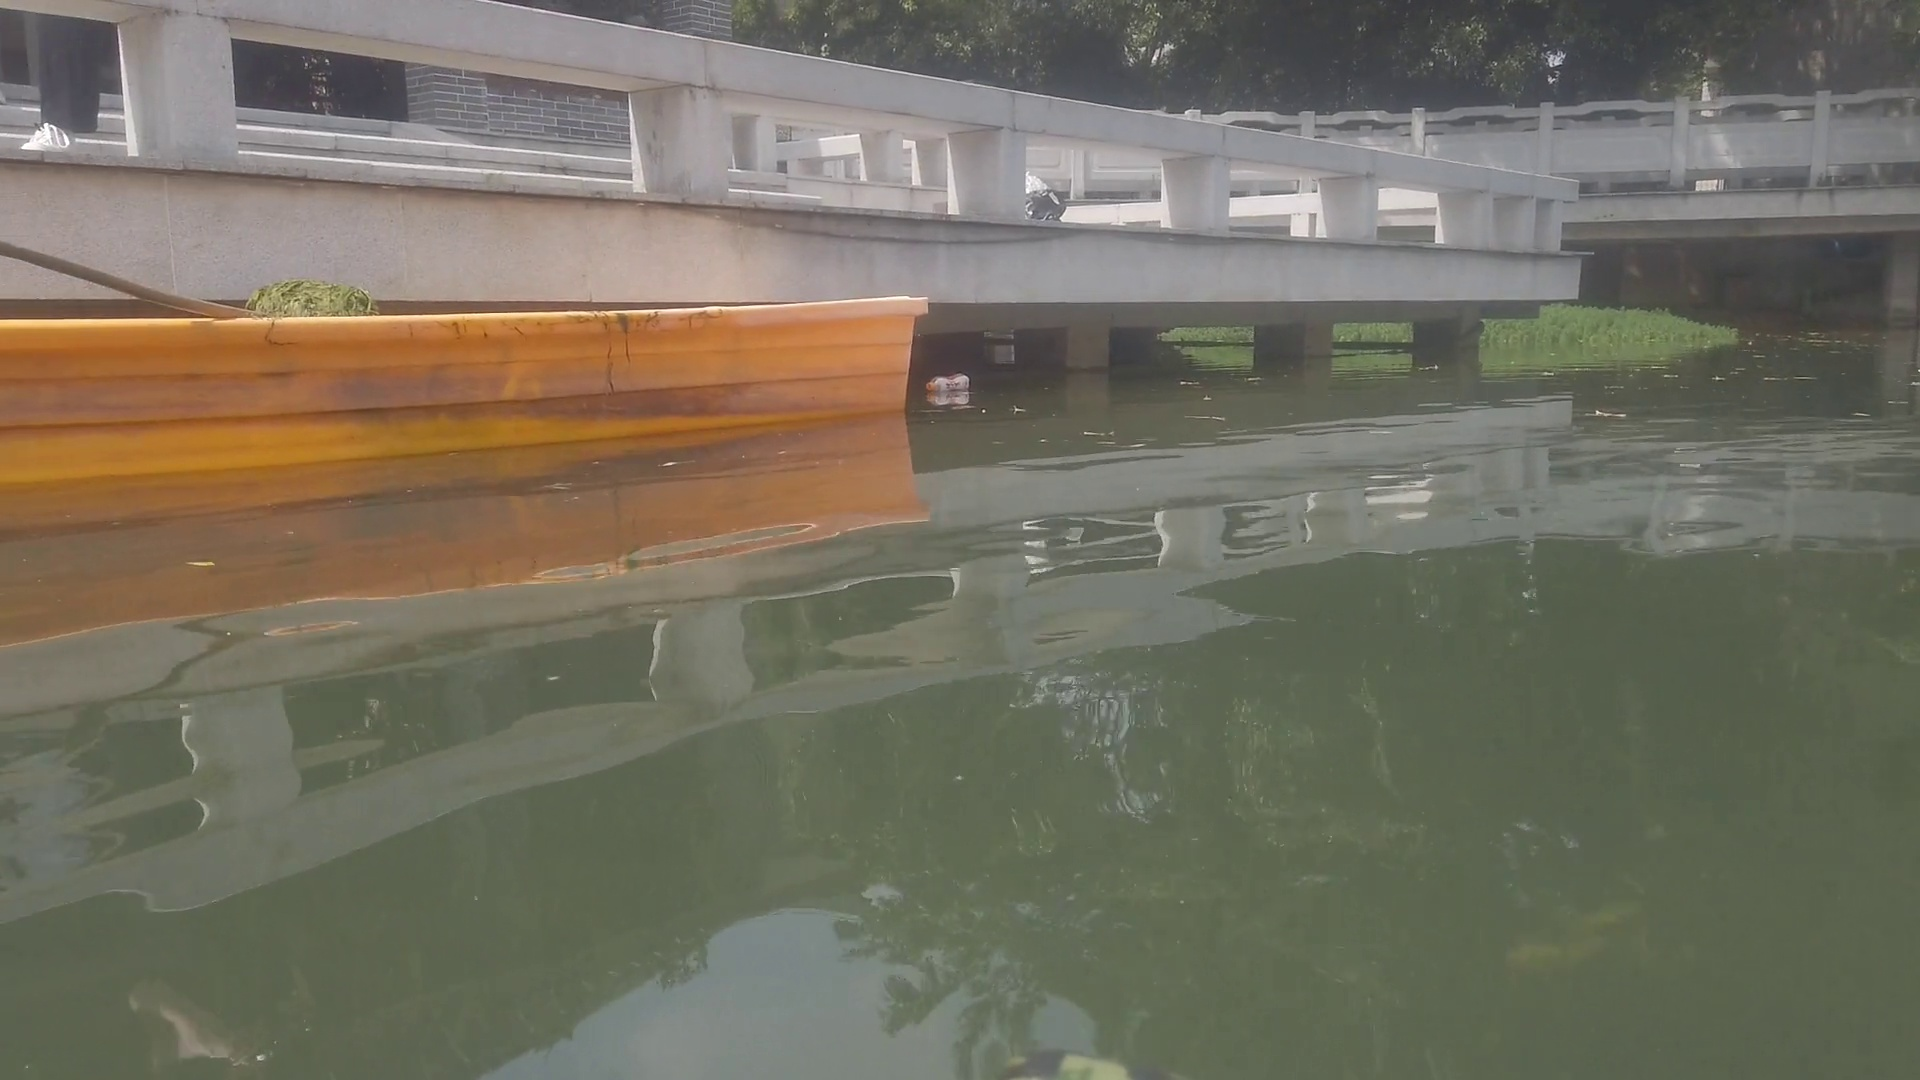bottle: (924, 371, 968, 390)
